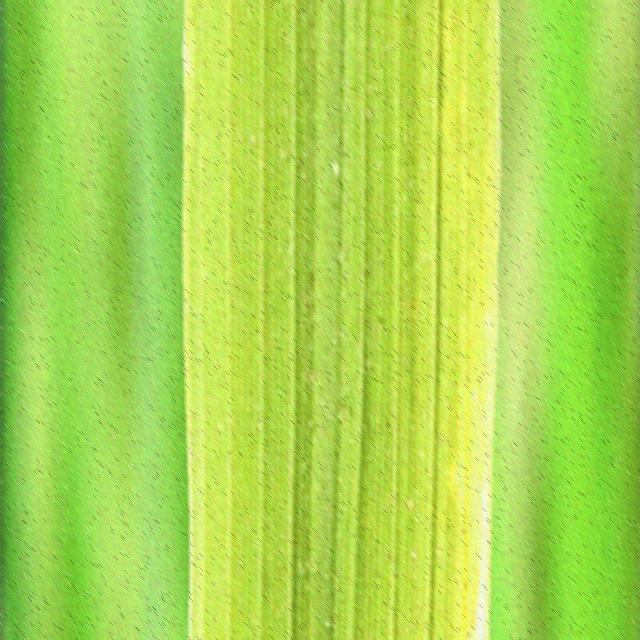BLS: (467, 288, 491, 640)
